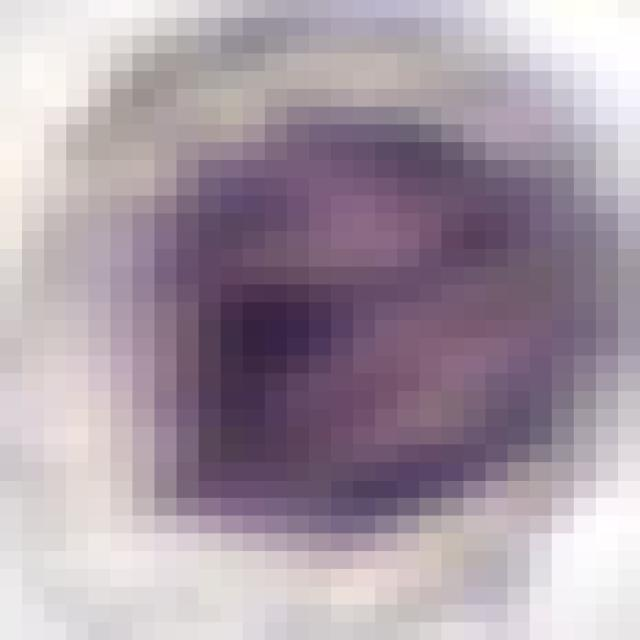cytoplasm: (0, 0, 618, 622)
nucleus: (146, 102, 607, 556)
